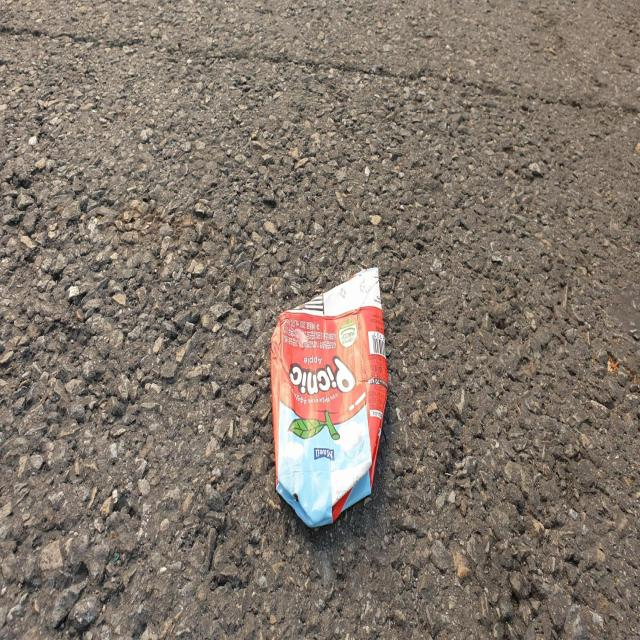paperpack: (271, 268, 388, 527)
